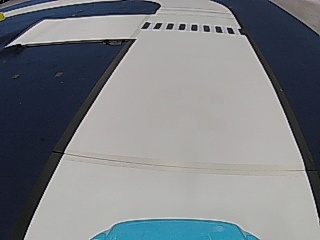CrossWalk: (138, 19, 243, 36)
